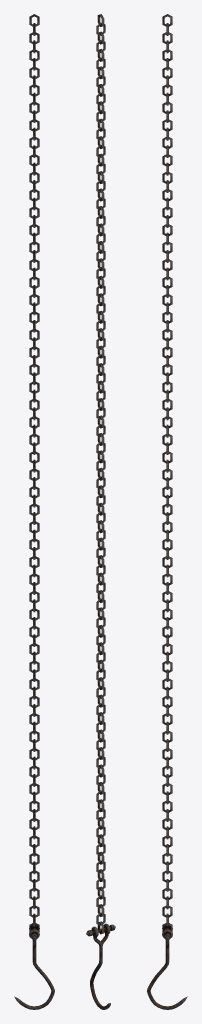
File: SM_Hook.fbx
3 renders of one model, left to right at view 1: azimuth 90°, elevation 25°; view 2: azimuth 210°, elevation 25°; view 3: azimuth 270°, elevation 25°, orthographic.
Parts seen in each view (by area): view 1: SM_Hook_LOD0; view 2: SM_Hook_LOD0; view 3: SM_Hook_LOD0.
Part boxes in pixels (<box>): SM_Hook_LOD0: <box>14,14,54,1009</box>; SM_Hook_LOD0: <box>86,14,115,1009</box>; SM_Hook_LOD0: <box>147,14,187,1009</box>.
Bounding box in the file's own units: 20.57 × 25.63 × 688.
Materials: 1 (1 with a texture image).
